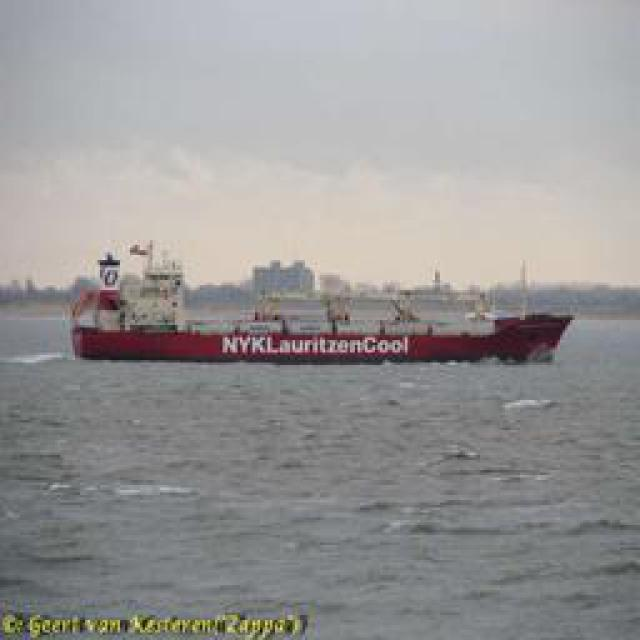Ship: (67, 274, 575, 364)
